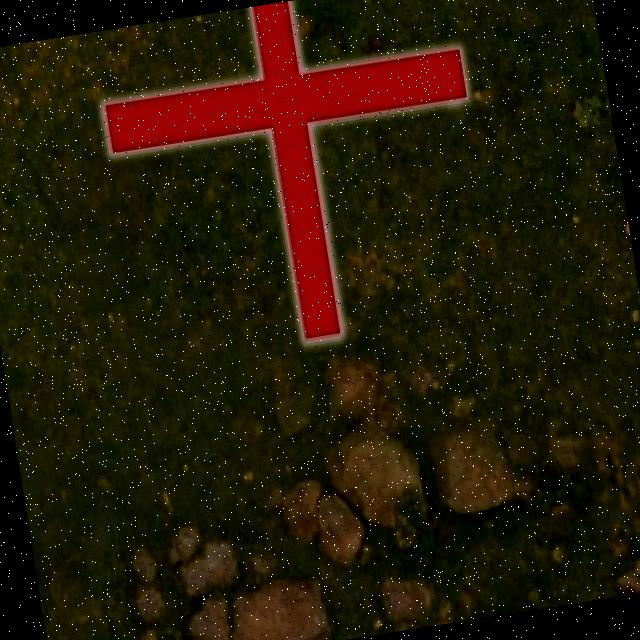x_marker: (91, 0, 500, 367)
